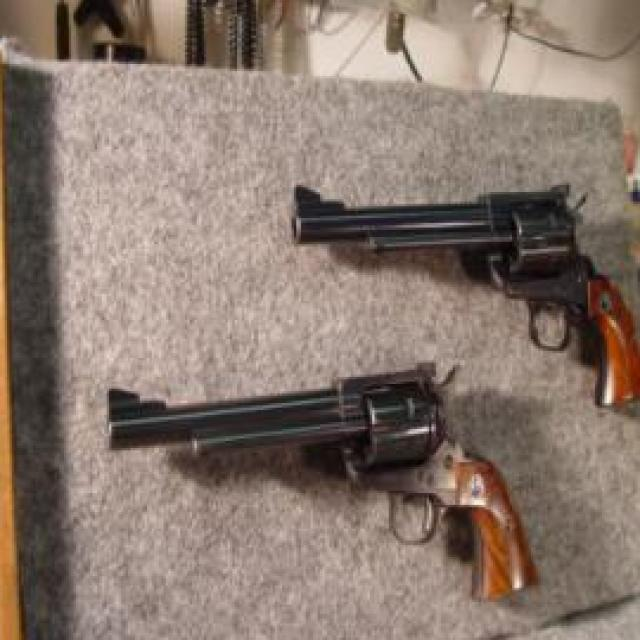pistol: (103, 363, 543, 595), (287, 175, 640, 415)
